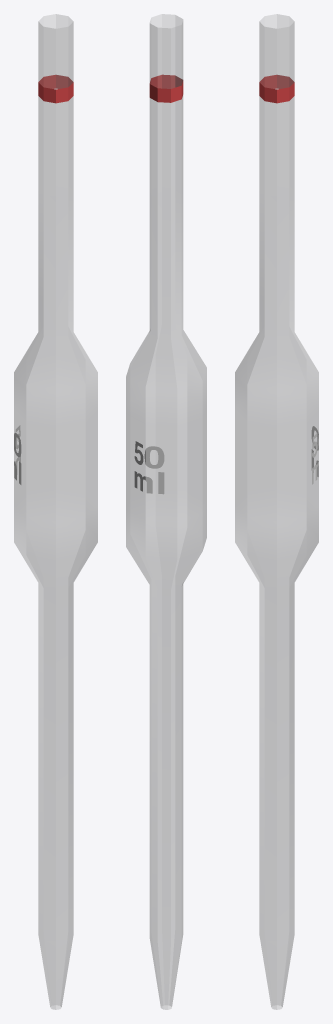
The model's file is Pipet volume.fbx.
3 renders of one model, left to right at view 1: azimuth 90°, elevation 25°; view 2: azimuth 150°, elevation 25°; view 3: azimuth 270°, elevation 25°, orthographic.
Parts seen in each view (by area): view 1: Plane.011, Plane.001; view 2: Plane.011, Plane.001; view 3: Plane.011, Plane.001.
Part boxes in pixels (bbox=[...]): Plane.011: bbox=[14, 14, 97, 1009]; Plane.001: bbox=[14, 425, 21, 484]; Plane.011: bbox=[126, 14, 206, 1009]; Plane.001: bbox=[134, 441, 164, 494]; Plane.011: bbox=[235, 14, 318, 1009]; Plane.001: bbox=[311, 426, 318, 484].
Bounding box in the file's own units: 63.2 × 820 × 63.2.
